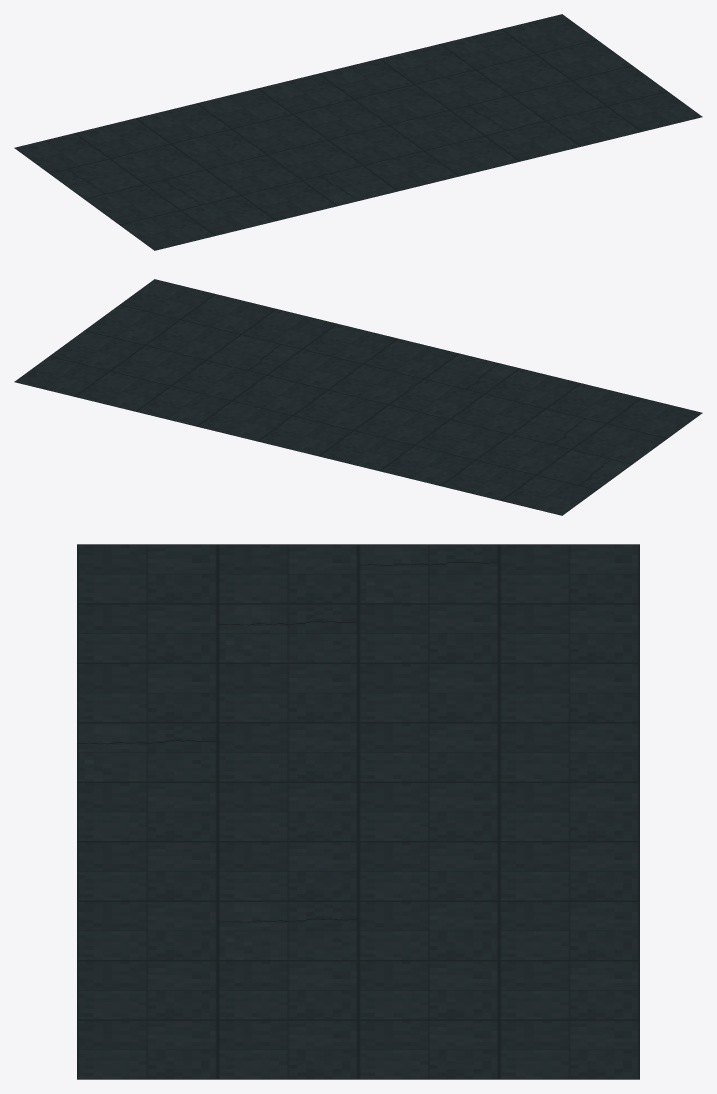
File: T1_FloorStrip_W9_A.fbx
3 views of the same model, one above another, from view 1: azimuth 30°, elevation 25°; view 2: azimuth 150°, elevation 25°; view 3: azimuth 270°, elevation 25° (orthographic). The views are drawn at different scales.
Parts seen in each view (by area): view 1: T1_FloorStrip_W9_A; view 2: T1_FloorStrip_W9_A; view 3: T1_FloorStrip_W9_A.
Boxes of the visible parts, box(x1,y1,x2,y2) form: T1_FloorStrip_W9_A: box(14, 14, 702, 250); T1_FloorStrip_W9_A: box(14, 279, 702, 515); T1_FloorStrip_W9_A: box(77, 544, 639, 1079).
Bounding box in the file's own units: 10.12 × 0 × 4.5.
